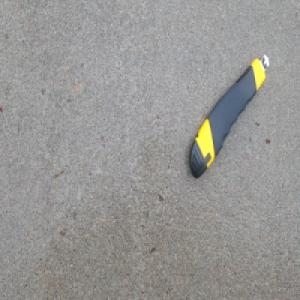Cutter: (188, 54, 270, 182)
